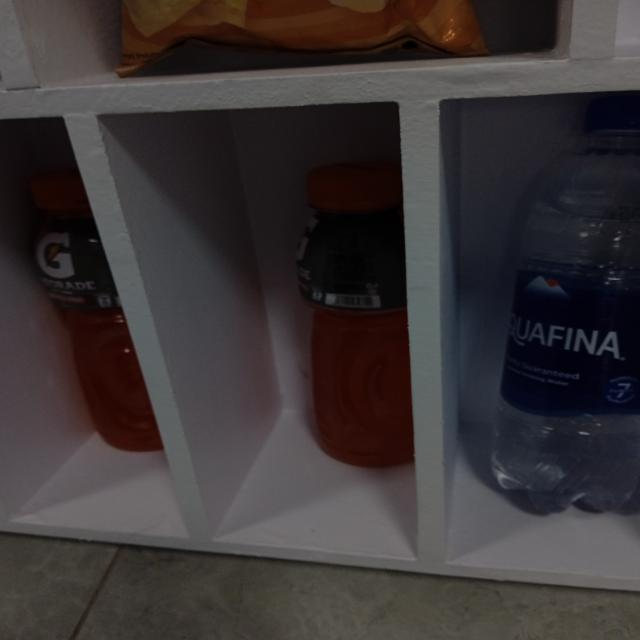Plastic: (509, 95, 640, 512), (306, 159, 403, 465), (117, 3, 483, 55), (51, 218, 99, 354)
